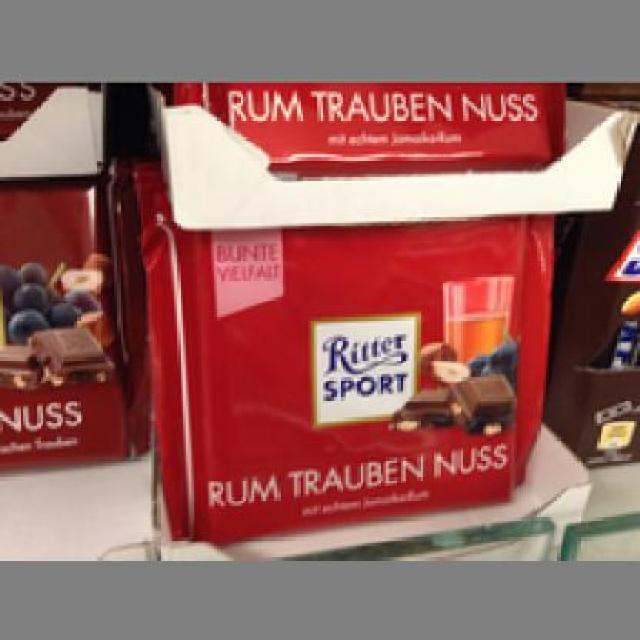Chocolate bar: (143, 188, 548, 550), (2, 174, 140, 483)
